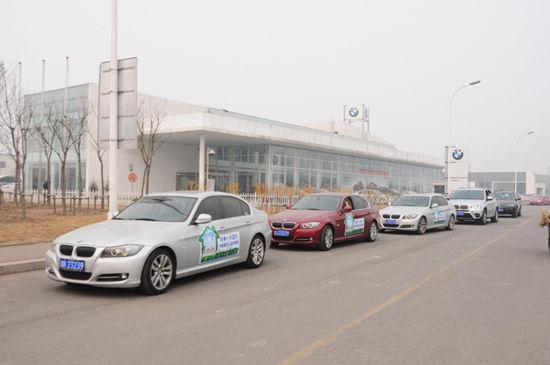car: (43, 190, 270, 295), (270, 191, 378, 250), (378, 193, 457, 234), (445, 187, 499, 225), (485, 190, 523, 218), (527, 194, 550, 206)
